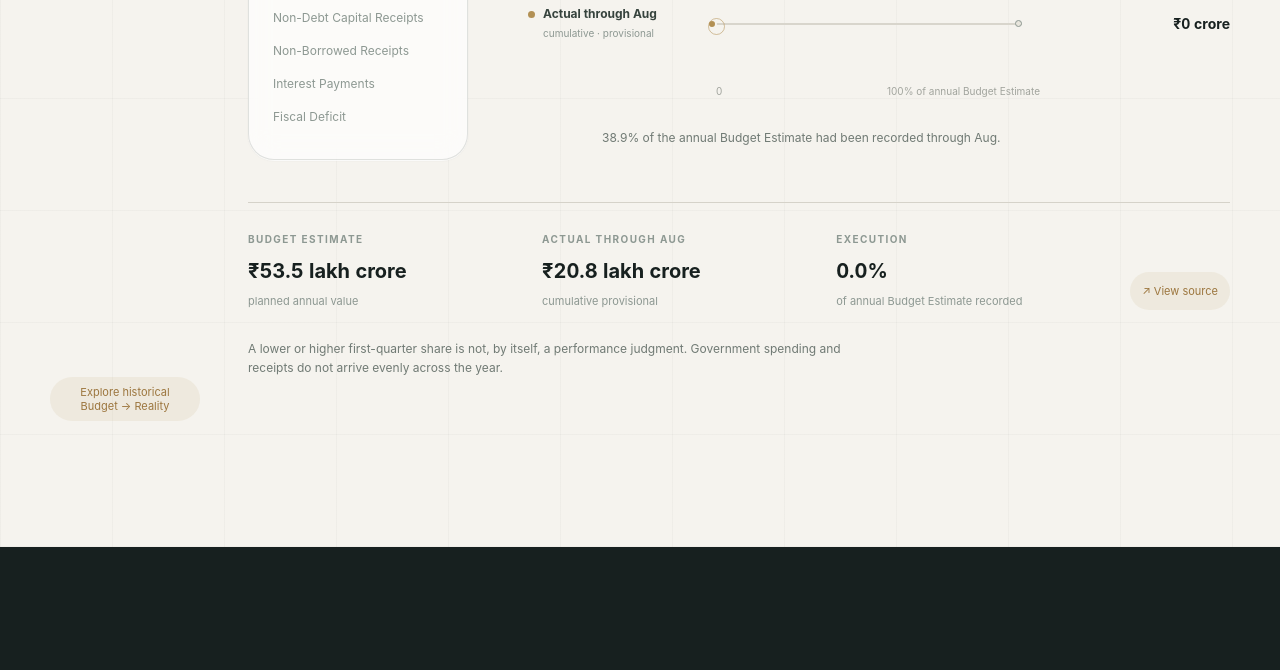
Test: Budget to Reality historical mode › keeps the current YTD view default and opens annual history only on request
(page scrolled)
Click the button "Explore historical Budget → Reality".
click(125, 399)  # box [50,377,200,421]
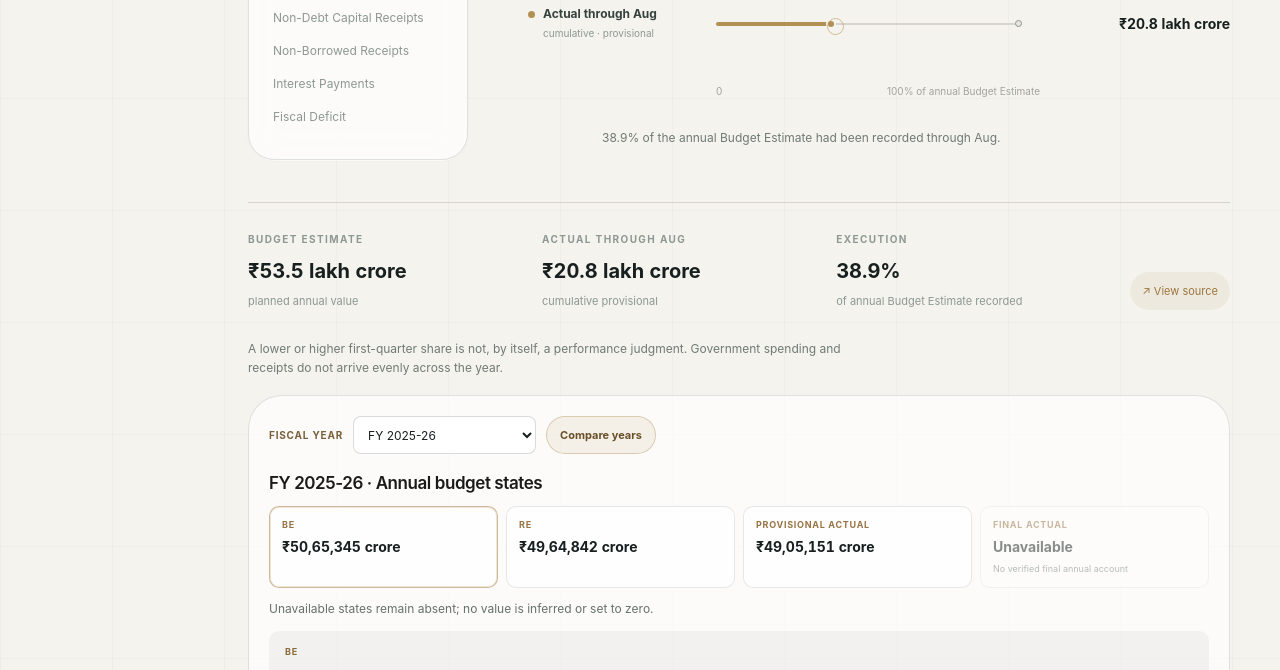
Result: the heading "FY 2025-26 · Annual budget states" is shown at [269,473,542,493]
